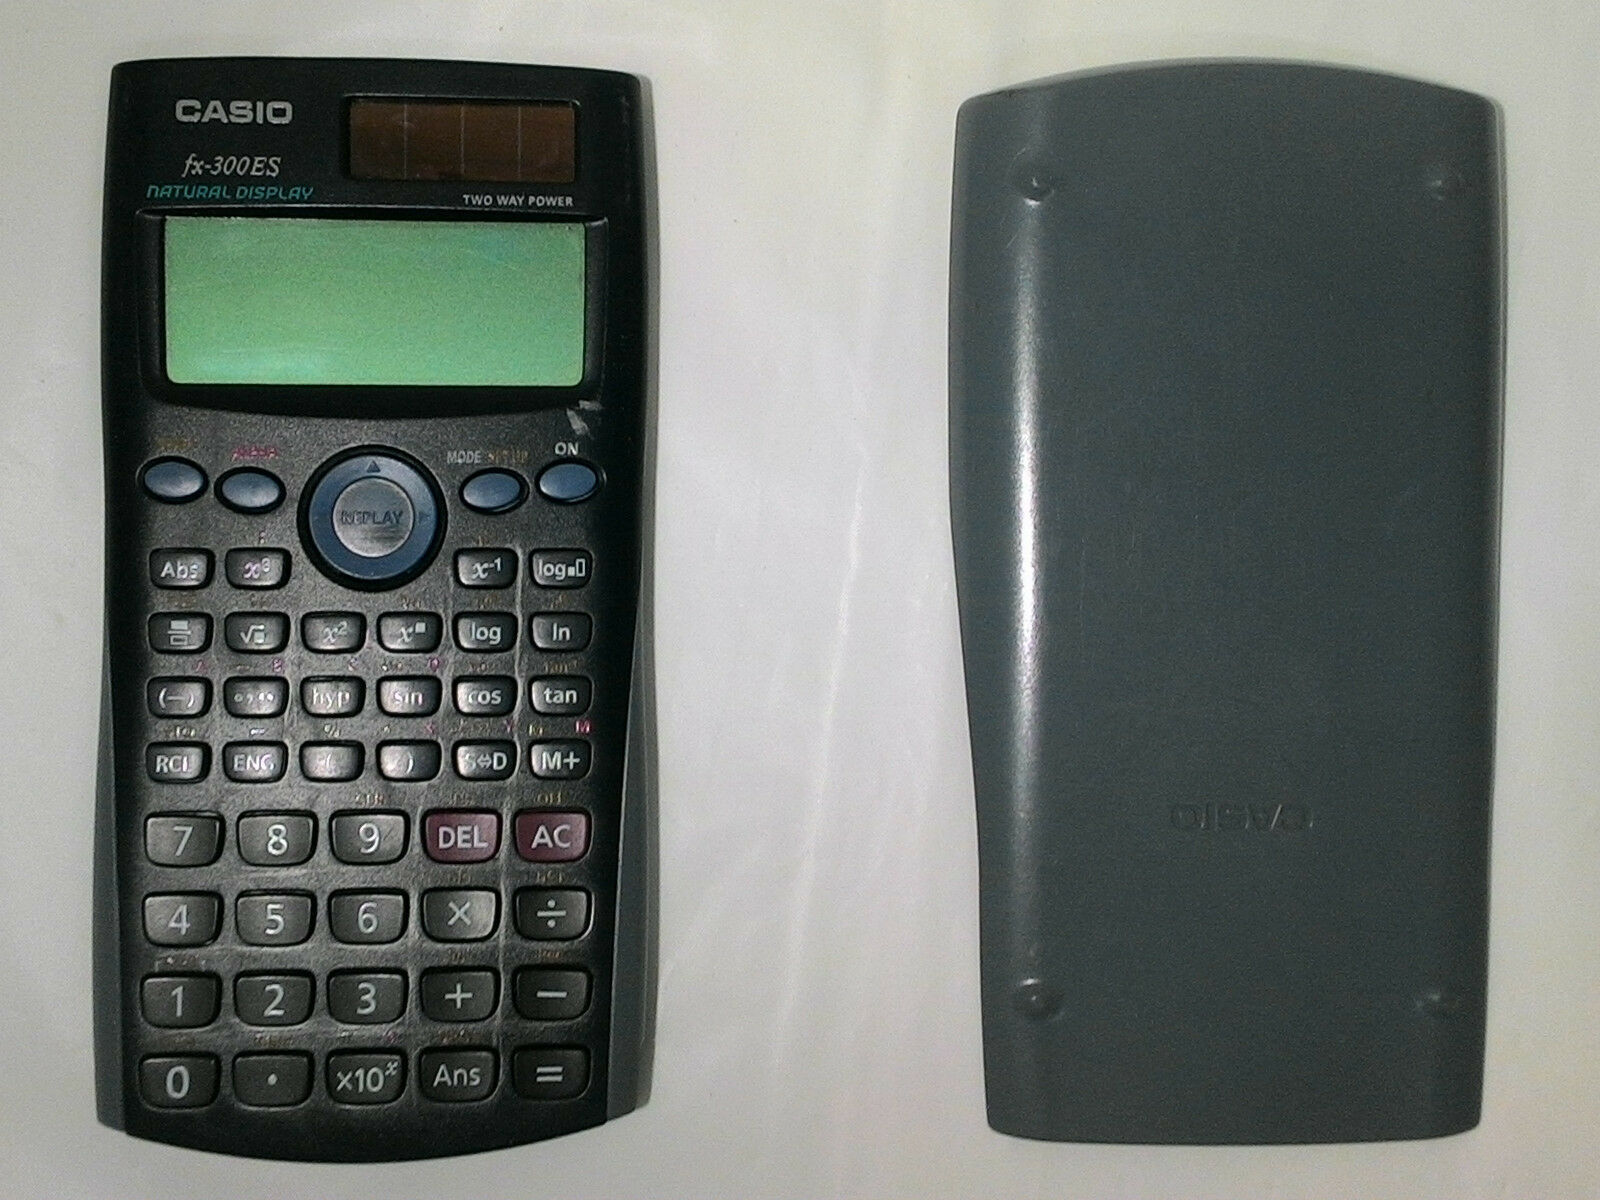Calculator: (92, 42, 671, 1181)
